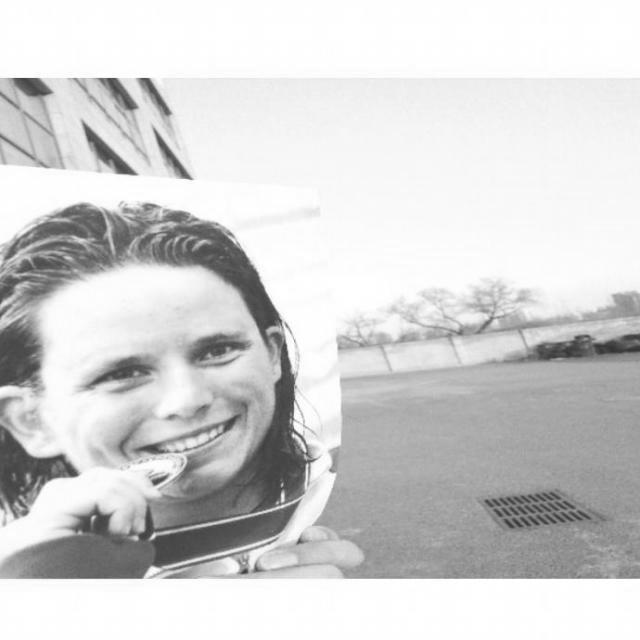fake: (0, 145, 348, 578)
